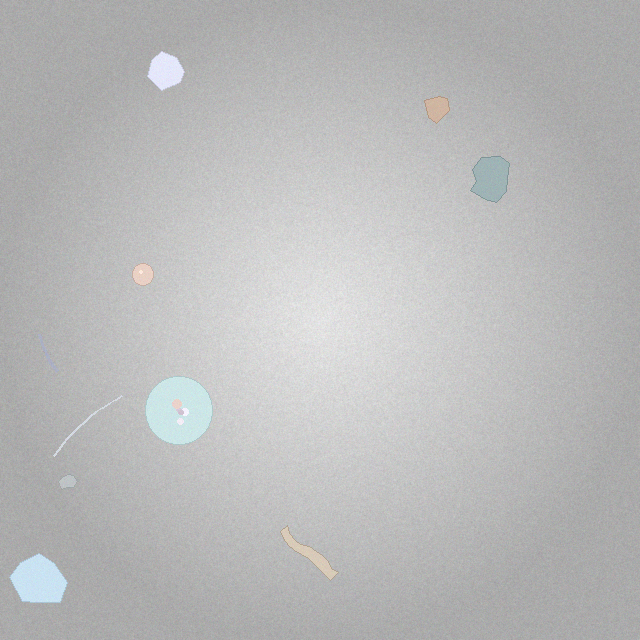fiber: (51, 394, 125, 459), (36, 331, 61, 375)
film: (280, 525, 339, 581)
foam: (145, 376, 213, 444)
fragment: (9, 553, 68, 602), (470, 156, 509, 202), (148, 52, 185, 90), (424, 96, 449, 124), (58, 475, 77, 489)
pellet: (132, 264, 154, 285)
